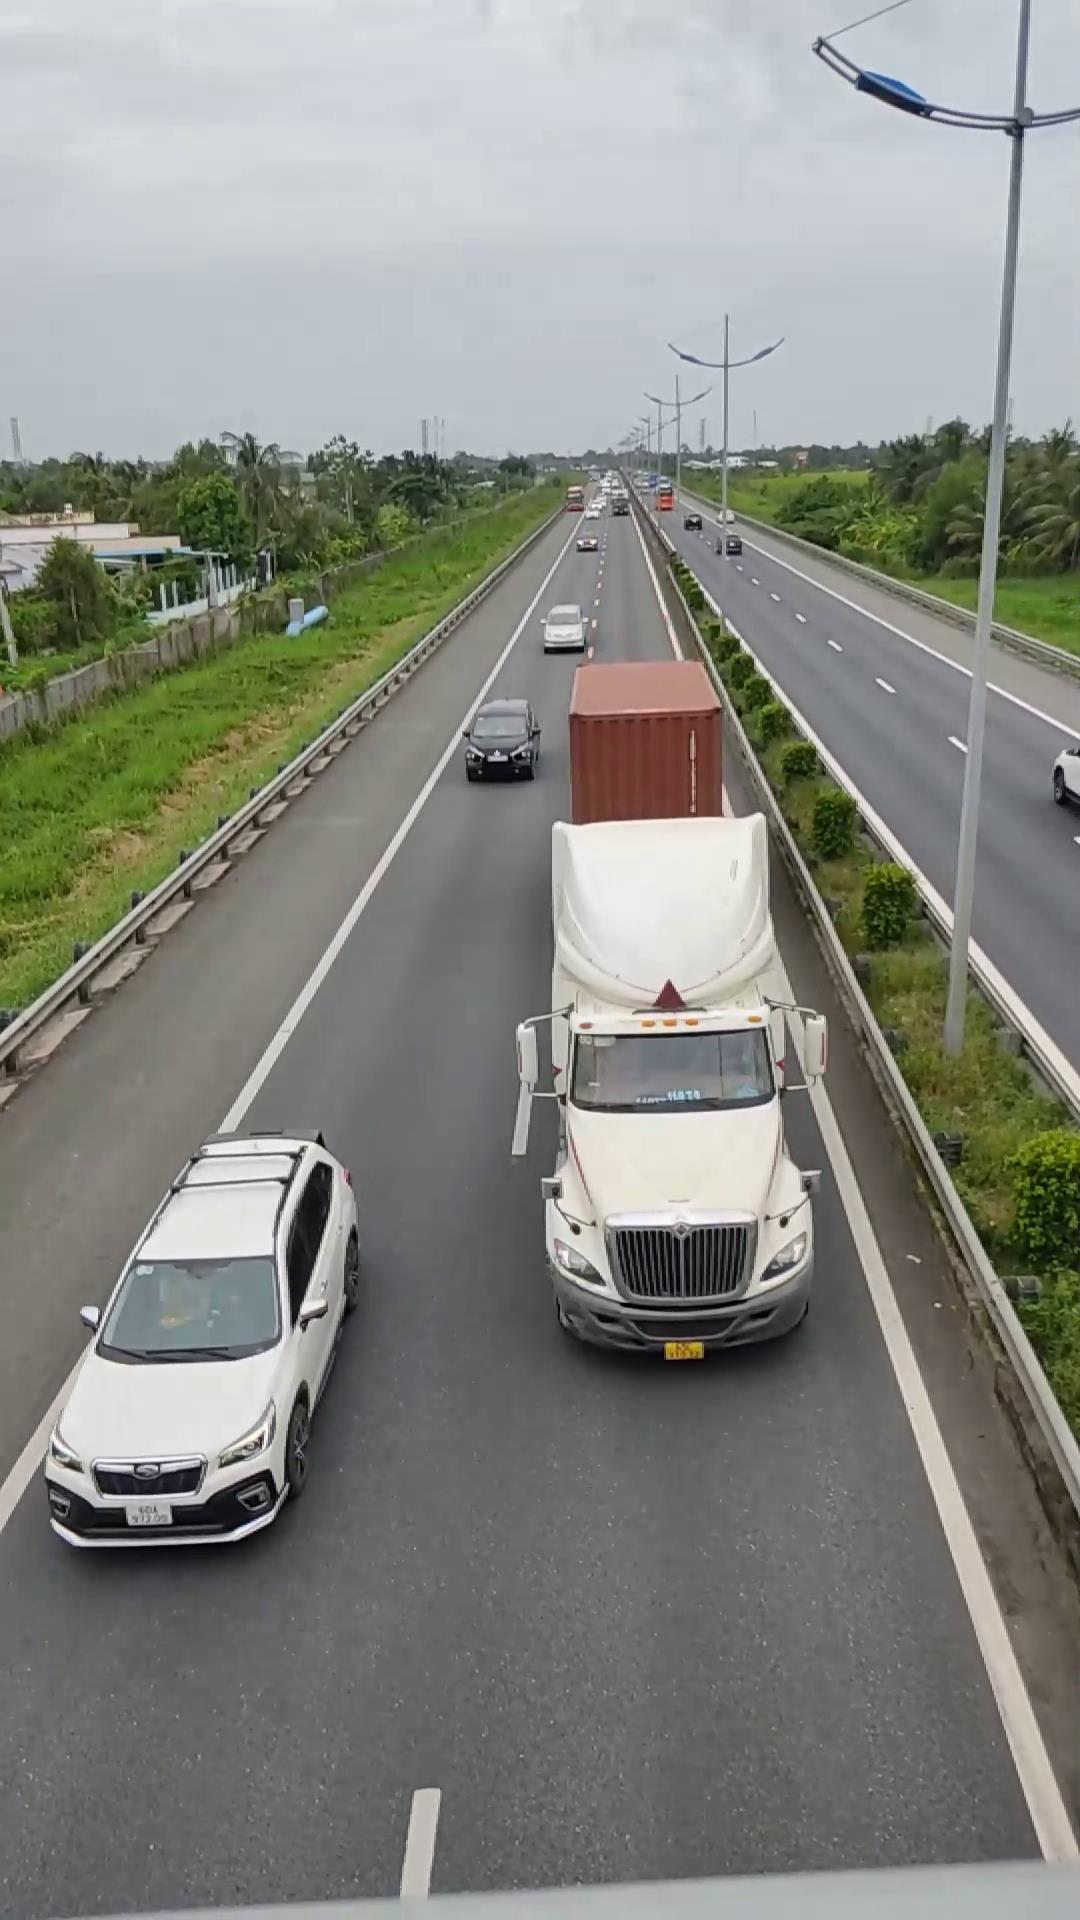car: (36, 1131, 364, 1549), (461, 695, 542, 780)
container: (523, 655, 823, 1360)
